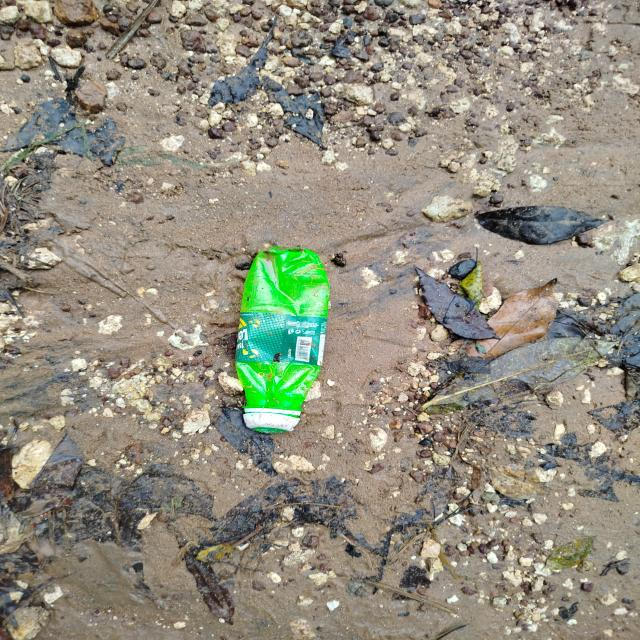plastic: (230, 243, 337, 442)
